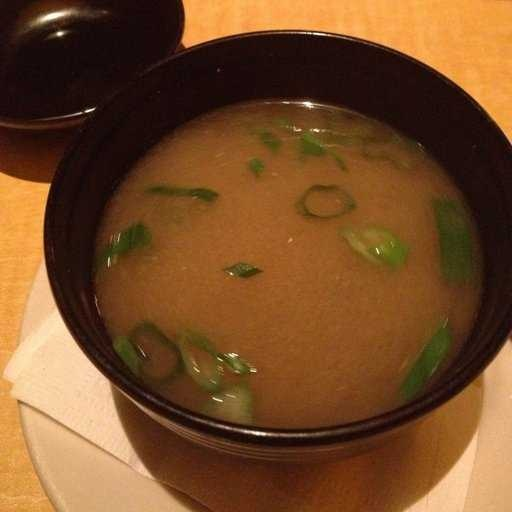soup: (56, 74, 494, 406)
